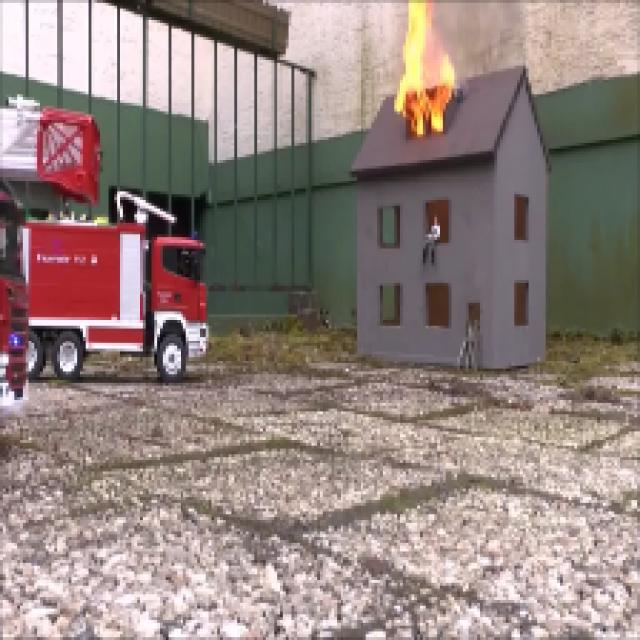fire: (396, 2, 457, 136)
